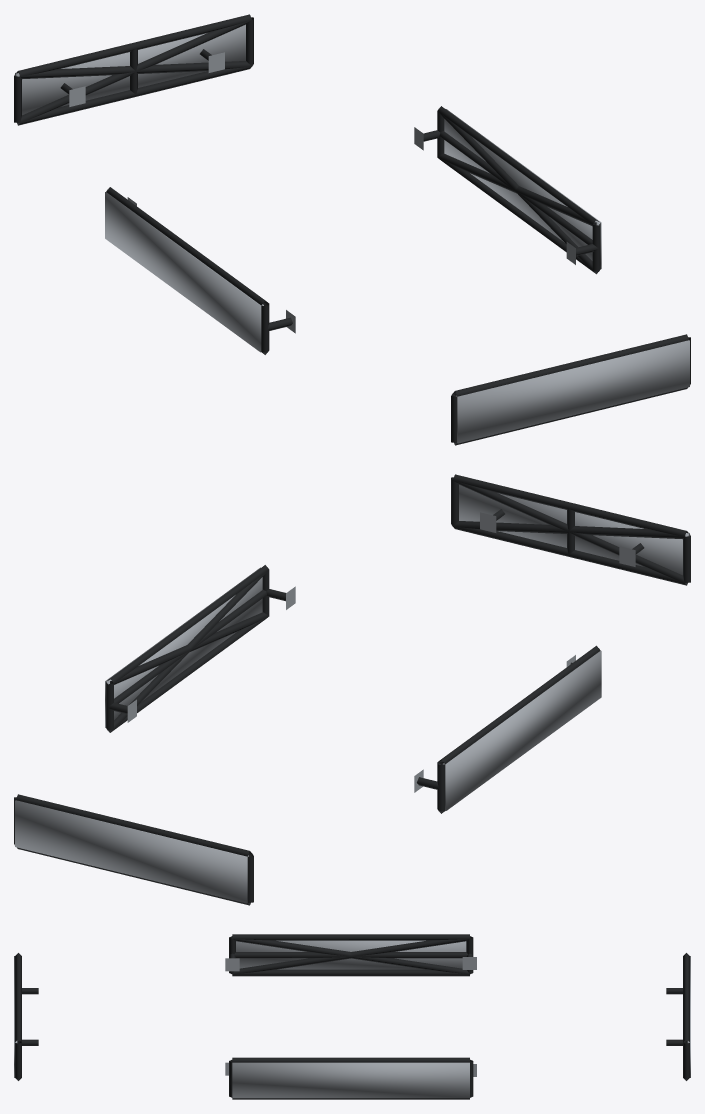
Rendered from bancroft_terral_protecao.glb.
3 renders of one model, top to bottom at view 1: azimuth 30°, elevation 25°; view 2: azimuth 150°, elevation 25°; view 3: azimuth 270°, elevation 25°, orthographic. The views are drawn at different scales.
Visible parts, largest first — view 1: Protection_front_Level3_Details, Protection_left_Level3_Details, Protection_rear_Level3_Details, Protection_rear_Level1_Details, Protection_right_Level1_Details, Protection_rear_Level2_Details, Protection_right_Level2_Details, Protection_right_Level3_Details, Protection_front_Level1_Details, Protection_left_Level1_Details; view 2: Protection_rear_Level3_Details, Protection_left_Level3_Details, Protection_front_Level3_Details, Protection_front_Level1_Details, Protection_right_Level1_Details, Protection_front_Level2_Details, Protection_right_Level2_Details, Protection_right_Level3_Details, Protection_rear_Level1_Details, Protection_left_Level1_Details; view 3: Protection_right_Level3_Details, Protection_left_Level2_Details, Protection_left_Level1_Details, Protection_left_Level3_Details, Protection_right_Level1_Details, Protection_rear_Level1_Details, Protection_front_Level1_Details.
Part boxes in pixels (<box>): Protection_front_Level3_Details: <box>456,340,689,443</box>; Protection_left_Level3_Details: <box>105,192,263,352</box>; Protection_rear_Level3_Details: <box>15,24,245,115</box>; Protection_rear_Level1_Details: <box>14,14,253,125</box>; Protection_right_Level1_Details: <box>414,106,600,274</box>; Protection_rear_Level2_Details: <box>16,20,251,124</box>; Protection_right_Level2_Details: <box>437,112,599,273</box>; Protection_right_Level3_Details: <box>444,109,601,268</box>; Protection_front_Level1_Details: <box>451,334,690,445</box>; Protection_left_Level1_Details: <box>106,187,295,354</box>; Protection_rear_Level3_Details: <box>15,800,248,903</box>; Protection_left_Level3_Details: <box>442,650,601,810</box>; Protection_front_Level3_Details: <box>459,484,689,575</box>; Protection_front_Level1_Details: <box>451,474,690,585</box>; Protection_right_Level1_Details: <box>106,565,295,732</box>; Protection_front_Level2_Details: <box>453,480,688,584</box>; Protection_right_Level2_Details: <box>107,571,268,732</box>; Protection_right_Level3_Details: <box>105,567,262,727</box>; Protection_rear_Level1_Details: <box>14,794,253,905</box>; Protection_left_Level1_Details: <box>414,645,600,813</box>; Protection_right_Level3_Details: <box>232,1062,469,1098</box>; Protection_left_Level2_Details: <box>232,938,470,974</box>; Protection_left_Level1_Details: <box>225,934,476,976</box>; Protection_left_Level3_Details: <box>236,940,466,969</box>; Protection_right_Level1_Details: <box>225,1057,476,1099</box>; Protection_rear_Level1_Details: <box>666,953,689,1080</box>; Protection_front_Level1_Details: <box>15,953,38,1080</box>.
Bounding box in the file's own units: 2.31 × 0.354 × 5.19.
1 material, 1 textured.
